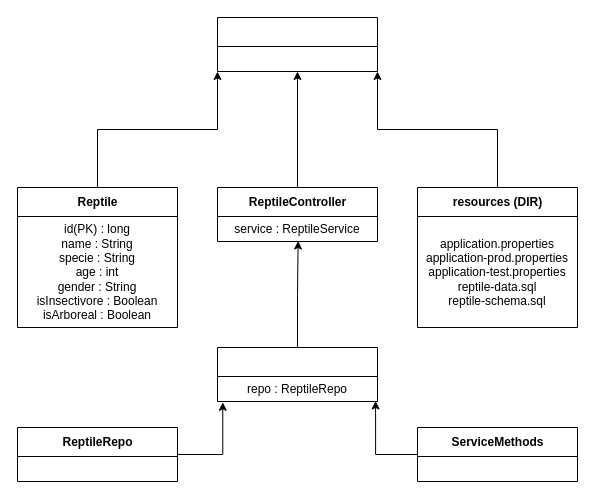
The diagram is 595 pixels wide and 499 high, and some of its shapes have lost their labels. The shapes that lost their labels are listed below. From the top down, each one's box as (x1, y1, x2, y2) in pixels, then its label:
(216, 16, 378, 72): ReptileApplication
(216, 346, 378, 402): ReptileService
